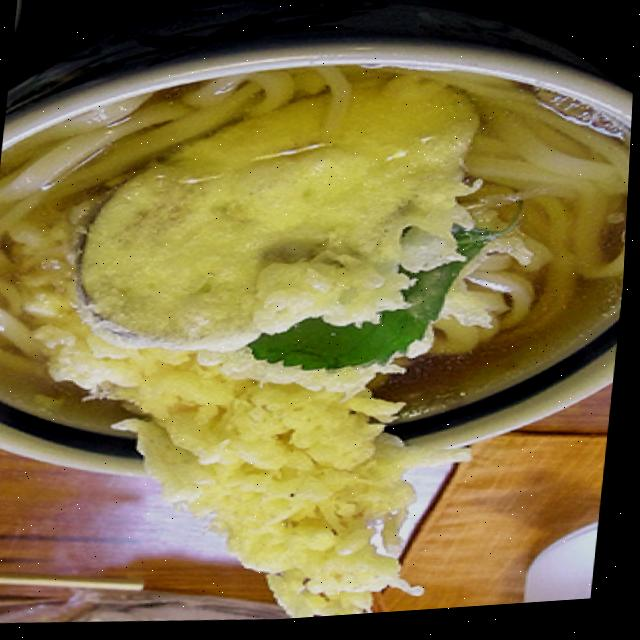面条主食: (0, 47, 637, 640)
